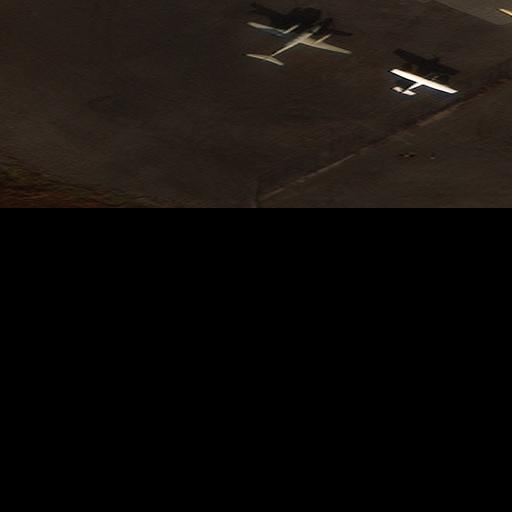Medium Civil Transport: (250, 21, 351, 61)
Small Civil Transport: (394, 67, 458, 93)
